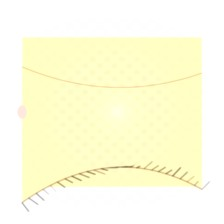corneal_ulcer: (92, 92, 149, 137)
